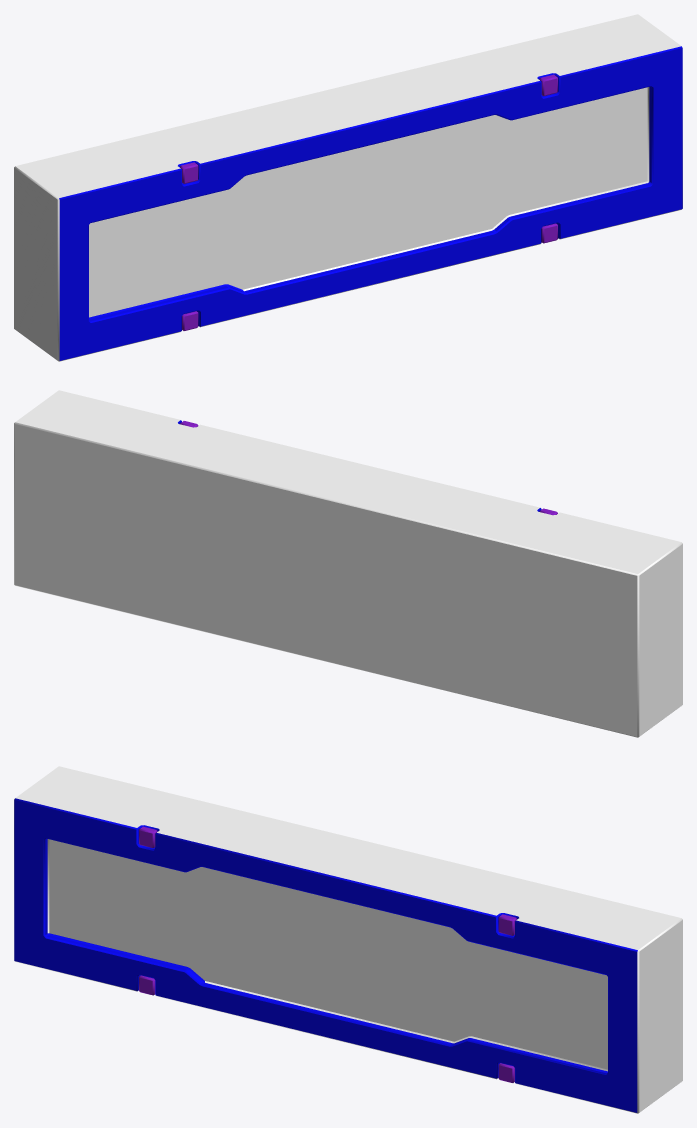
Rendered from Scifi2_WallE2_Half.fbx.
The picture shows the model from 3 angles, top to bottom: view 1: azimuth 30°, elevation 25°; view 2: azimuth 150°, elevation 25°; view 3: azimuth 330°, elevation 25°; orthographic projection.
Visible parts, largest first — view 1: WallPanelE2_Half; view 2: WallPanelE2_Half; view 3: WallPanelE2_Half.
Boxes of the visible parts, x1,y1,x2,y2 form: WallPanelE2_Half: (14,14,682,361); WallPanelE2_Half: (14,390,682,737); WallPanelE2_Half: (14,766,682,1113).
Size of the model in its own units: 800 by 200 by 100.
